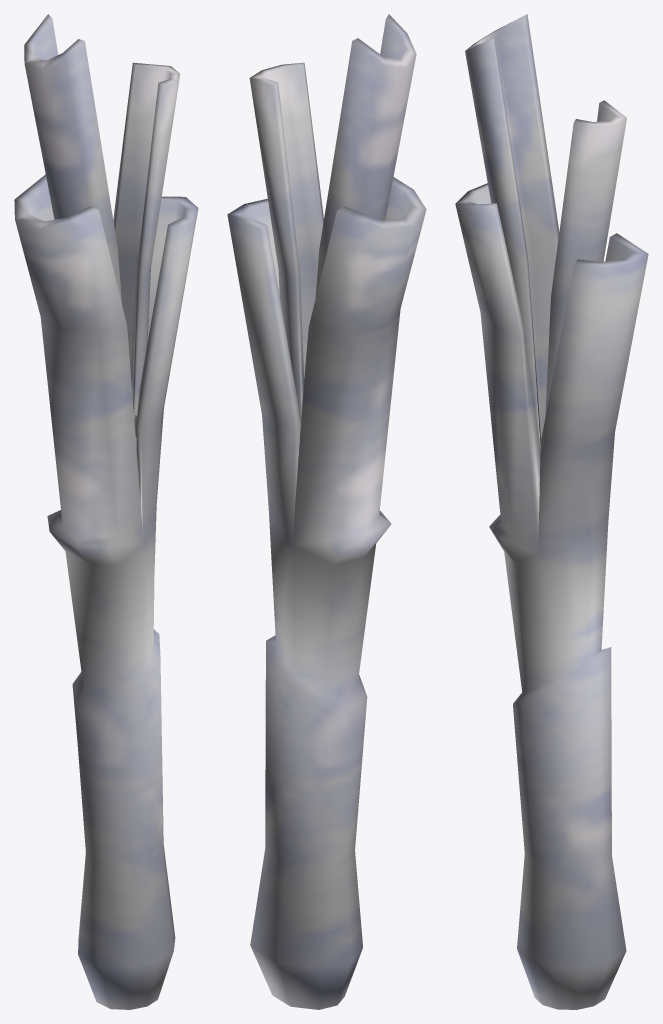
File: Leek.fbx
3 renders of one model, left to right at view 1: azimuth 30°, elevation 25°; view 2: azimuth 150°, elevation 25°; view 3: azimuth 330°, elevation 25°, orthographic. The views are drawn at different scales.
Visible parts, largest first — view 1: Leek; view 2: Leek; view 3: Leek.
Part boxes in pixels (box(x1,y1,x2,y2)): Leek: box(14, 14, 198, 1009); Leek: box(227, 14, 426, 1009); Leek: box(455, 14, 648, 1009).
Bounding box in the file's own units: 13 × 68.43 × 6.45.
